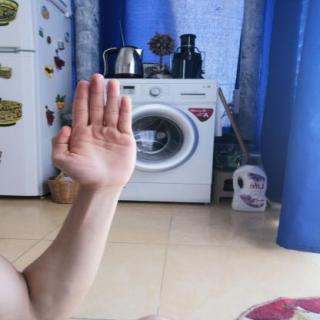SEEN: (44, 68, 141, 192)
